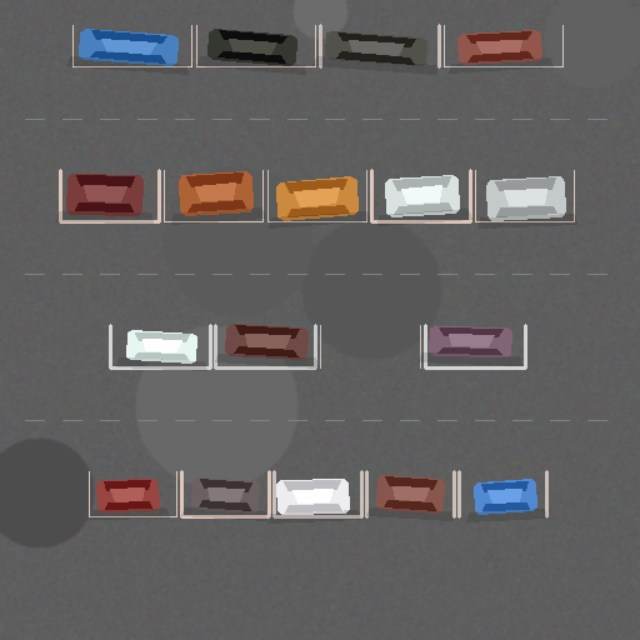space-empty: (320, 325, 420, 368)
space-occupied: (60, 170, 159, 221), (164, 170, 263, 221), (267, 170, 366, 221), (371, 170, 470, 221), (475, 170, 574, 221), (196, 25, 315, 66), (320, 25, 439, 66), (444, 25, 563, 66), (73, 25, 191, 66), (110, 325, 210, 368), (215, 325, 315, 368), (425, 325, 525, 368), (181, 471, 269, 516), (366, 471, 454, 516), (89, 471, 176, 516), (274, 471, 361, 516), (459, 471, 546, 516)
